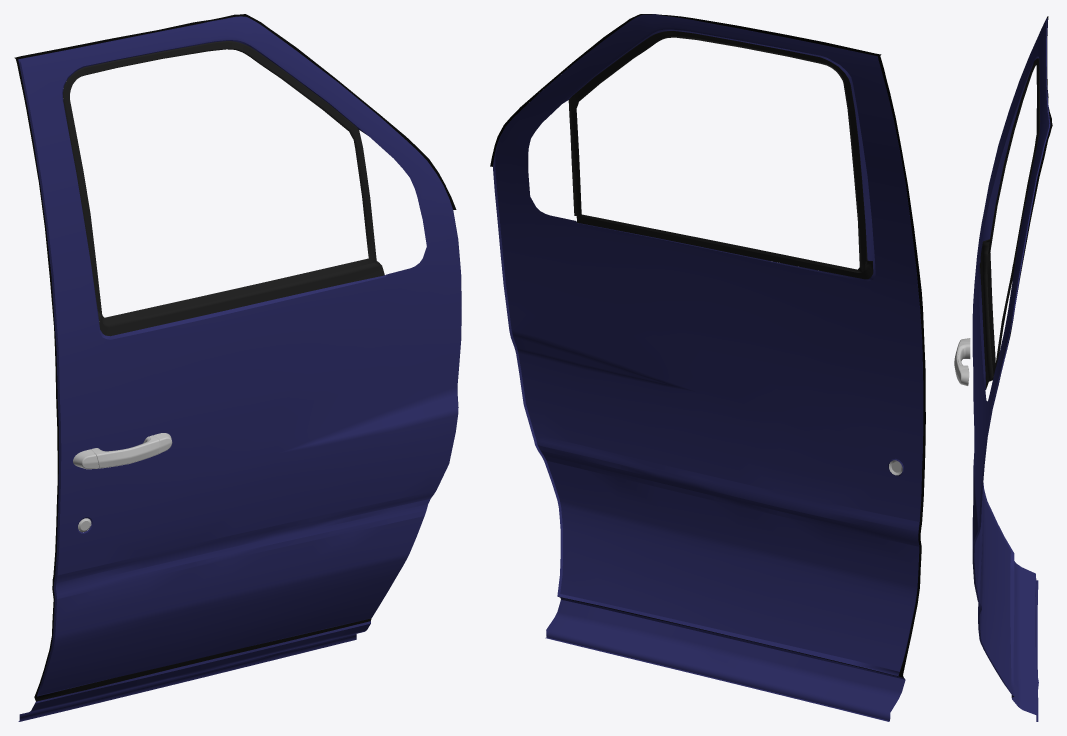
The picture shows the model from 3 angles, left to right: view 1: azimuth 30°, elevation 25°; view 2: azimuth 150°, elevation 25°; view 3: azimuth 270°, elevation 25°; orthographic projection. The views are drawn at different scales.
Visible parts, largest first — view 1: P615_5A_281B_R_P615_5A_281B_R_1_DaS, P615_5A_281B_R_P615_5A_281B_R_2_D, P615_5A_281B_R_P615_5A_281B_R_1_DaS_E, P615_5A_281B_R_P615_5A_281B_R_4_D, P615_5A_281B_R_3_DaS_P615_5A_281B_R; view 2: P615_5A_281B_R_P615_5A_281B_R_1_DaS, P615_5A_281B_R_P615_5A_281B_R_2_D, P615_5A_281B_R_P615_5A_281B_R_1_DaS_E, P615_5A_281B_R_P615_5A_281B_R_4_D; view 3: P615_5A_281B_R_P615_5A_281B_R_1_DaS, P615_5A_281B_R_P615_5A_281B_R_1_DaS_E, P615_5A_281B_R_P615_5A_281B_R_2_D, P615_5A_281B_R_3_DaS_P615_5A_281B_R, P615_5A_281B_R_P615_5A_281B_R_4_D.
Part boxes in pixels (x1,y1,x2,y2): P615_5A_281B_R_P615_5A_281B_R_1_DaS: [19, 17, 461, 721]; P615_5A_281B_R_P615_5A_281B_R_2_D: [63, 41, 384, 336]; P615_5A_281B_R_P615_5A_281B_R_1_DaS_E: [18, 16, 461, 721]; P615_5A_281B_R_P615_5A_281B_R_4_D: [14, 14, 456, 701]; P615_5A_281B_R_3_DaS_P615_5A_281B_R: [73, 433, 172, 532]; P615_5A_281B_R_P615_5A_281B_R_1_DaS: [495, 14, 922, 720]; P615_5A_281B_R_P615_5A_281B_R_2_D: [568, 31, 873, 279]; P615_5A_281B_R_P615_5A_281B_R_1_DaS_E: [493, 14, 923, 721]; P615_5A_281B_R_P615_5A_281B_R_4_D: [490, 14, 925, 677]; P615_5A_281B_R_P615_5A_281B_R_1_DaS: [972, 18, 1049, 719]; P615_5A_281B_R_P615_5A_281B_R_1_DaS_E: [972, 18, 1050, 721]; P615_5A_281B_R_P615_5A_281B_R_2_D: [980, 58, 1040, 388]; P615_5A_281B_R_3_DaS_P615_5A_281B_R: [954, 338, 970, 385]; P615_5A_281B_R_P615_5A_281B_R_4_D: [979, 16, 1052, 697].
Bounding box in the file's own units: 109 × 166 × 26.08.
